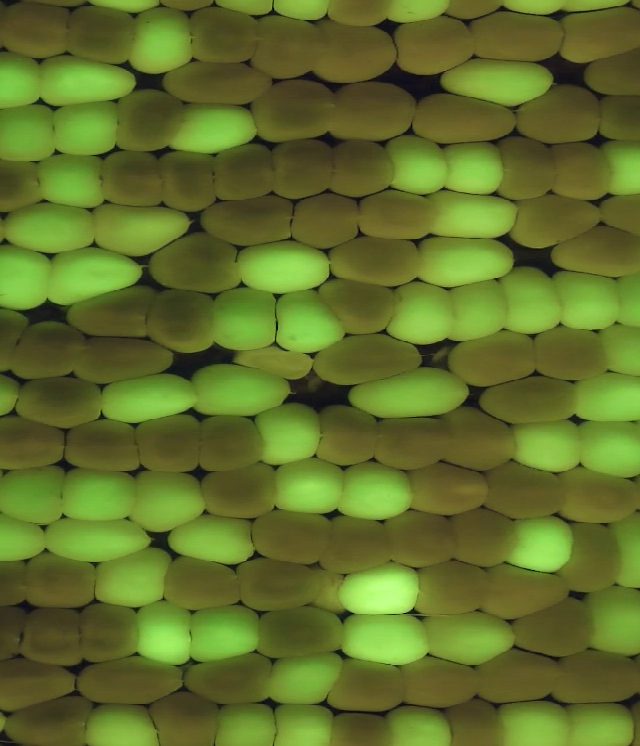fluorescent: (345, 361, 484, 425), (437, 51, 565, 113), (41, 243, 147, 315), (85, 197, 201, 262), (34, 510, 165, 567), (186, 358, 300, 423), (28, 49, 146, 111), (196, 279, 287, 357), (90, 367, 209, 426), (337, 605, 442, 670), (87, 543, 179, 617), (50, 462, 148, 531), (412, 228, 521, 290), (420, 607, 520, 674), (422, 183, 527, 246), (229, 237, 343, 295), (160, 99, 270, 159), (542, 263, 631, 336), (160, 508, 265, 569), (327, 456, 421, 524), (0, 199, 108, 258), (379, 275, 466, 348), (121, 464, 210, 535), (331, 557, 428, 621), (181, 601, 272, 669), (497, 511, 587, 579), (265, 454, 356, 521), (381, 128, 460, 204), (495, 262, 572, 339), (269, 285, 353, 355), (248, 402, 332, 470), (263, 647, 352, 711), (123, 5, 199, 79), (32, 148, 116, 214), (128, 596, 200, 672), (0, 462, 80, 529), (566, 415, 640, 486), (441, 276, 516, 345), (45, 96, 127, 159), (577, 581, 640, 663), (434, 136, 511, 203), (487, 693, 583, 746), (506, 417, 588, 478), (75, 696, 172, 746), (0, 241, 61, 317), (566, 365, 640, 426), (0, 101, 69, 166), (263, 695, 347, 746), (206, 694, 288, 746), (557, 696, 640, 746), (379, 699, 463, 746), (0, 46, 50, 115), (0, 506, 55, 568), (603, 506, 640, 594), (595, 134, 640, 203), (594, 321, 640, 381), (609, 265, 640, 332)
nonfluorescent: (311, 326, 431, 392), (142, 228, 252, 299), (460, 7, 580, 72), (407, 89, 527, 153), (303, 15, 406, 89), (64, 653, 195, 711), (320, 78, 421, 151), (466, 644, 574, 712), (63, 331, 179, 392), (476, 557, 578, 626), (503, 595, 605, 664), (435, 400, 523, 479), (476, 453, 573, 524), (247, 76, 341, 148), (441, 327, 545, 392), (156, 550, 253, 619), (504, 188, 611, 249), (550, 460, 640, 532), (510, 81, 608, 147), (178, 646, 279, 710), (407, 554, 500, 623), (61, 281, 161, 345), (244, 501, 338, 569), (471, 372, 585, 428), (245, 11, 331, 85), (319, 653, 412, 721), (321, 232, 430, 290), (555, 515, 631, 598), (352, 182, 452, 245), (311, 271, 401, 341), (157, 58, 278, 110), (10, 372, 113, 433), (387, 14, 482, 80), (395, 653, 489, 719), (553, 1, 640, 72), (106, 83, 193, 154), (244, 604, 351, 661), (1, 317, 92, 384), (131, 408, 212, 483), (366, 410, 458, 476), (527, 320, 616, 388), (544, 220, 640, 283), (58, 1, 144, 71), (377, 504, 463, 574), (232, 554, 329, 616), (13, 598, 93, 673), (142, 285, 223, 359), (315, 507, 396, 581), (318, 132, 403, 202), (198, 193, 302, 250), (66, 595, 153, 663), (59, 415, 150, 480), (396, 459, 496, 518), (282, 188, 370, 255), (199, 458, 287, 525), (547, 645, 640, 708), (309, 398, 388, 471), (188, 411, 274, 478), (16, 547, 107, 609), (180, 2, 265, 68), (92, 146, 173, 214), (489, 130, 562, 205), (541, 135, 619, 205), (262, 135, 344, 201), (0, 690, 96, 746), (153, 146, 225, 218), (0, 653, 82, 716), (208, 138, 284, 205), (440, 506, 521, 568), (141, 688, 226, 746), (0, 1, 78, 64), (0, 413, 70, 474), (439, 690, 509, 746), (581, 42, 640, 103), (0, 152, 50, 218), (325, 706, 400, 746), (594, 182, 640, 246), (0, 303, 36, 382), (594, 90, 640, 148), (0, 600, 36, 669), (0, 556, 36, 610)
